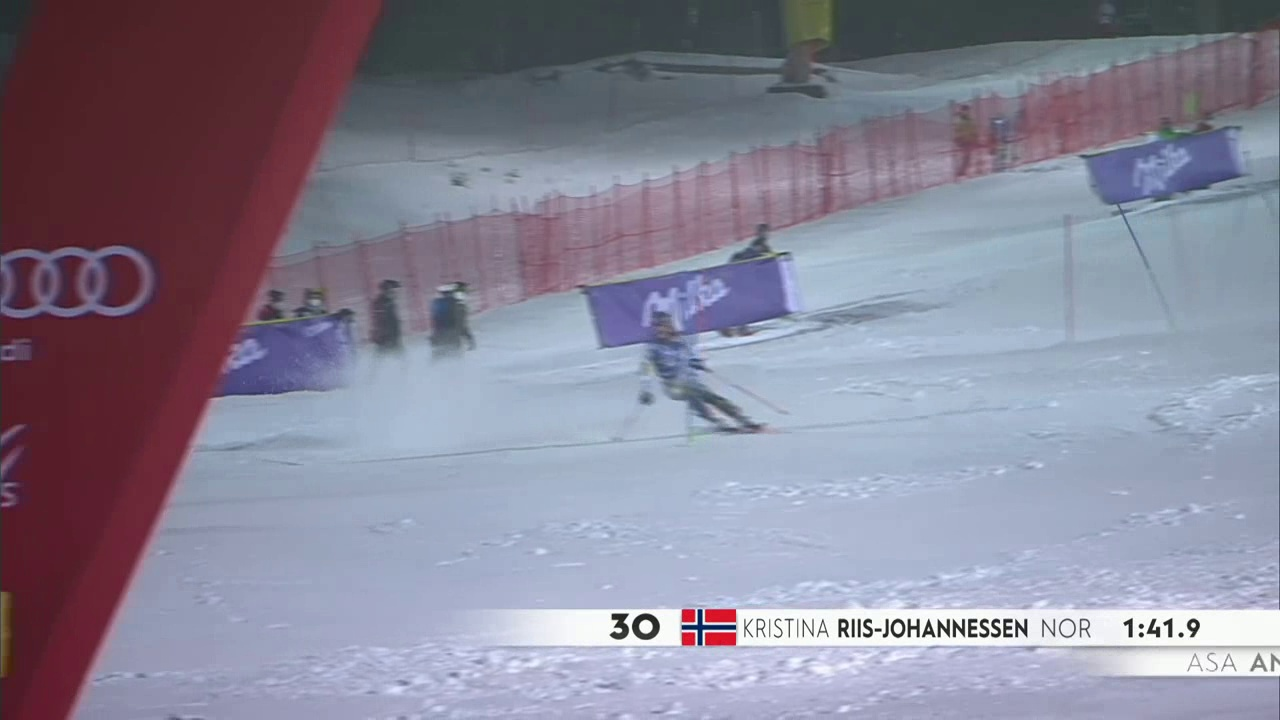audi: (1, 241, 158, 329)
milka: (591, 267, 777, 344)
